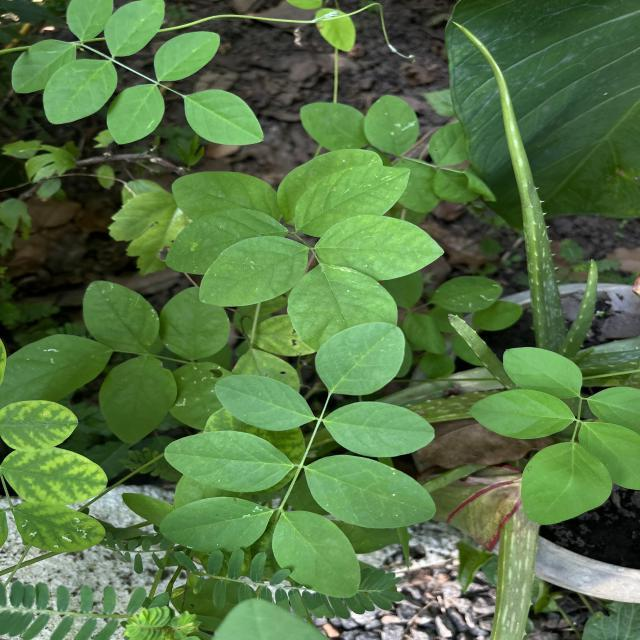Clitoria ternatea: (303, 454, 438, 530), (163, 429, 296, 494), (271, 509, 362, 599), (314, 321, 406, 396), (160, 496, 274, 554), (322, 400, 435, 458), (214, 373, 312, 432)
